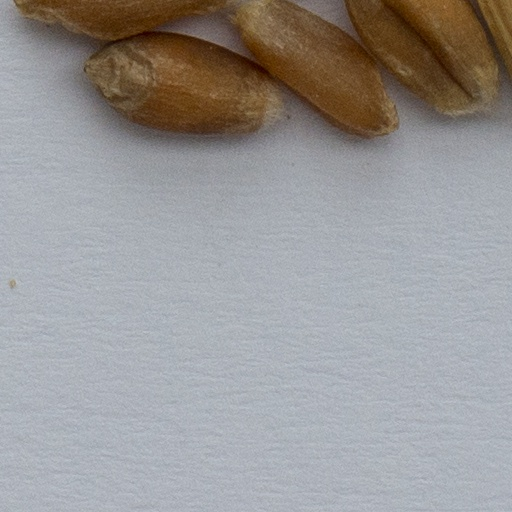Peel-poly: (475, 0, 511, 81)
